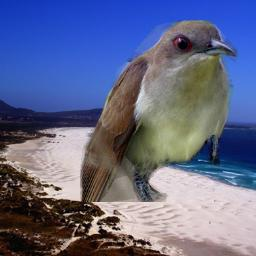Cuckoo: (80, 20, 238, 202)
